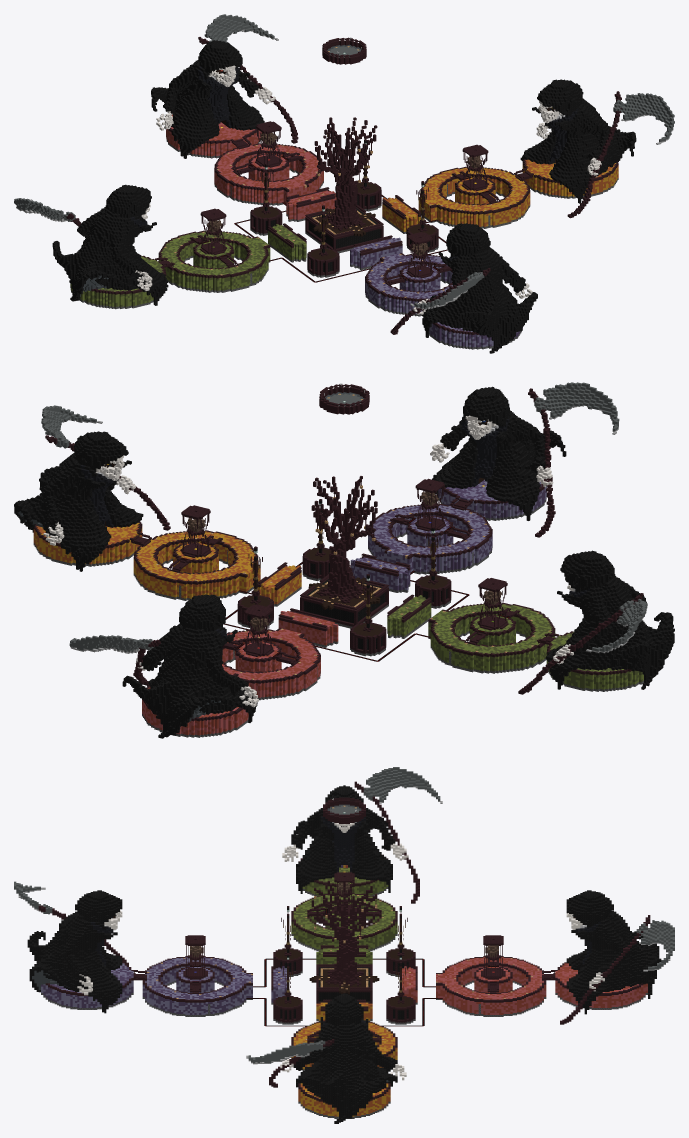
The model's file is minecraft.obj.
3 views of the same model, one above another, from view 1: azimuth 30°, elevation 25°; view 2: azimuth 150°, elevation 25°; view 3: azimuth 270°, elevation 25° (orthographic). The views are drawn at different scales.
Bounding box in the file's own units: 293 × 93.08 × 293.
